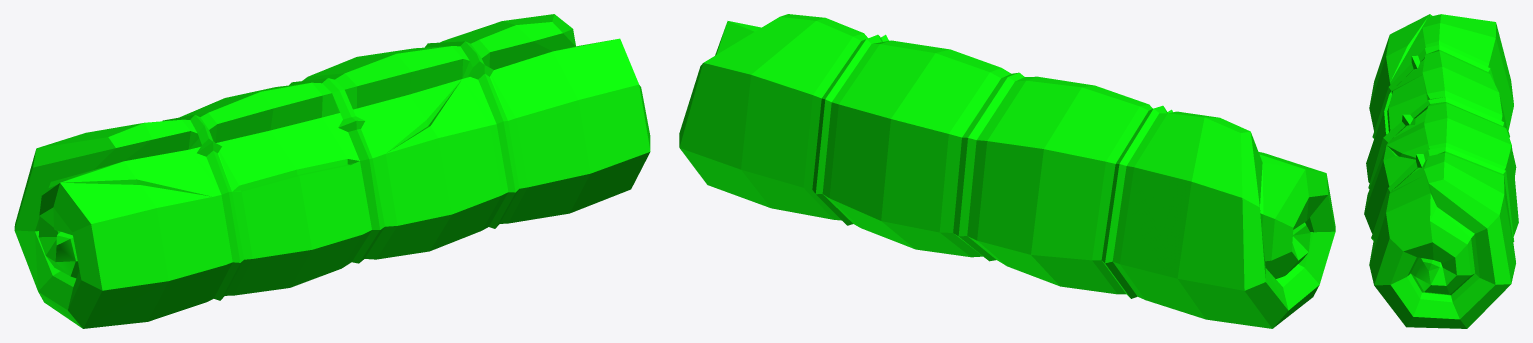
Rendered from SM_Fabric_Tied_Up_Fantasy.fbx.
The picture shows the model from 3 angles, left to right: view 1: azimuth 30°, elevation 25°; view 2: azimuth 150°, elevation 25°; view 3: azimuth 270°, elevation 25°; orthographic projection. The views are drawn at different scales.
Visible parts, largest first — view 1: fabric-tied-up-fantasy; view 2: fabric-tied-up-fantasy; view 3: fabric-tied-up-fantasy.
Boxes of the visible parts, <box> form: fabric-tied-up-fantasy: <box>14,14,650,328</box>; fabric-tied-up-fantasy: <box>679,14,1335,328</box>; fabric-tied-up-fantasy: <box>1364,14,1518,328</box>.
Size of the model in its own units: 0.7916 by 0.244 by 0.2387.
